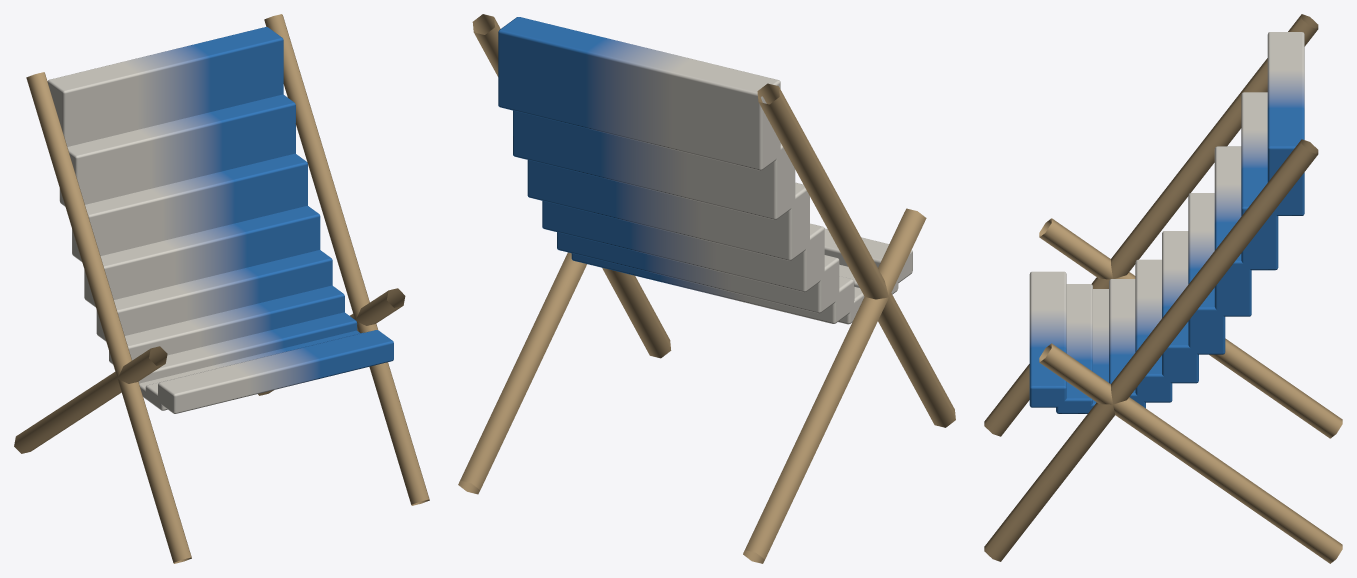
The model's file is furn_od_deck_chair.glb.
3 views of the same model, side by side, from view 1: azimuth 30°, elevation 25°; view 2: azimuth 150°, elevation 25°; view 3: azimuth 270°, elevation 25° (orthographic). The views are drawn at different scales.
Parts seen in each view (by area): view 1: furn_od_deck_chair_main; view 2: furn_od_deck_chair_main; view 3: furn_od_deck_chair_main.
Boxes of the visible parts, bbox=[...] form: furn_od_deck_chair_main: bbox=[14, 14, 429, 563]; furn_od_deck_chair_main: bbox=[458, 14, 955, 563]; furn_od_deck_chair_main: bbox=[984, 14, 1342, 563].
Size of the model in its own units: 0.604 by 0.8761 by 0.6771.
